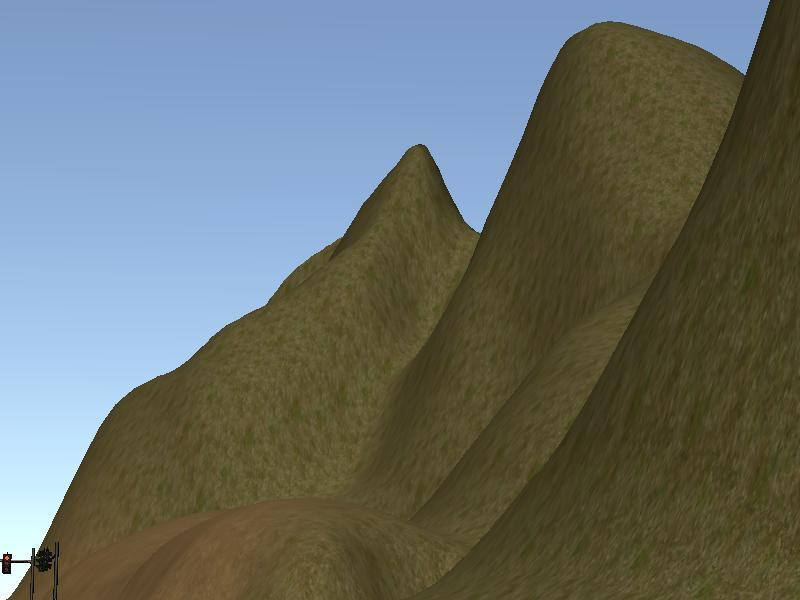Red: (1, 552, 11, 576)
